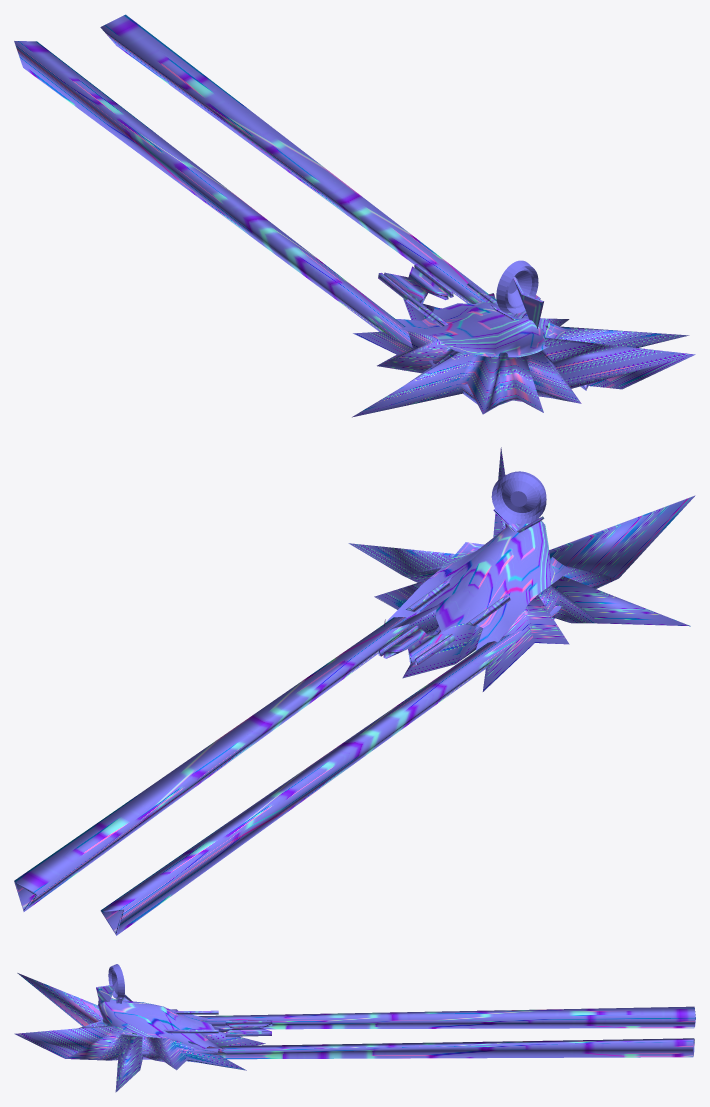
Rendered from gunship3.obj.
3 renders of one model, top to bottom at view 1: azimuth 30°, elevation 25°; view 2: azimuth 150°, elevation 25°; view 3: azimuth 270°, elevation 25°, orthographic. The views are drawn at different scales.
Parts seen in each view (by area): view 1: Ship_Body, Gun_2, Gun_1, Driving_Seat, radar; view 2: Ship_Body, Gun_2, Gun_1, Driving_Seat, radar; view 3: Gun_2, Gun_1, Ship_Body, Driving_Seat, radar, Cylinder.001, Gun_Stripes_2, Gun_Stripe_4.
Boxes of the visible parts, <box> form: Ship_Body: <box>352,298,695,417</box>; Gun_2: <box>14,41,477,404</box>; Gun_1: <box>100,14,589,390</box>; Driving_Seat: <box>396,293,566,357</box>; radar: <box>496,260,543,328</box>; Ship_Body: <box>348,447,695,691</box>; Gun_2: <box>100,606,561,935</box>; Gun_1: <box>14,617,410,911</box>; Driving_Seat: <box>384,518,570,650</box>; radar: <box>491,471,546,524</box>; Gun_2: <box>198,1006,695,1029</box>; Gun_1: <box>141,1038,694,1059</box>; Ship_Body: <box>14,973,265,1092</box>; Driving_Seat: <box>98,998,228,1054</box>; radar: <box>96,964,124,1004</box>; Cylinder.001: <box>163,1029,218,1033</box>; Gun_Stripes_2: <box>225,1022,272,1027</box>; Gun_Stripe_4: <box>225,1031,271,1036</box>.
Size of the model in its own units: 6.99 by 2.57 by 18.85.
